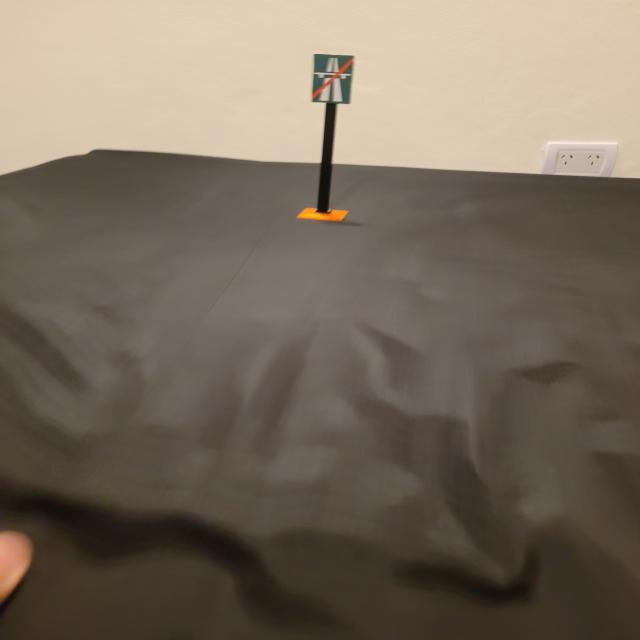highway_exit: (310, 54, 356, 104)
